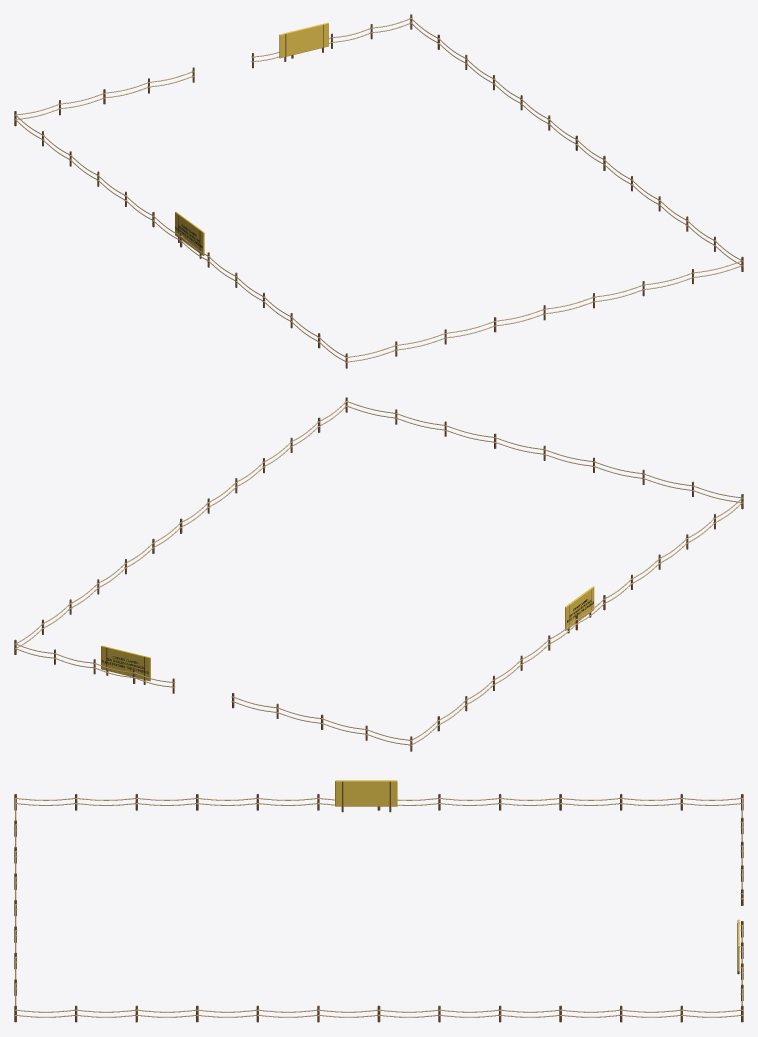
Rendered from zen-worksite.glb.
3 views of the same model, one above another, from view 1: azimuth 30°, elevation 25°; view 2: azimuth 150°, elevation 25°; view 3: azimuth 270°, elevation 25° (orthographic). The views are drawn at different scales.
Visible parts, largest first — view 1: Notice board, Notice board.001; view 2: Notice board, Notice board.001; view 3: Notice board.001.
Part boxes in pixels (left/top/right/bottom): Notice board: left=279, top=22, right=328, bottom=58; Notice board.001: left=175, top=212, right=204, bottom=255; Notice board: left=101, top=645, right=150, bottom=681; Notice board.001: left=565, top=586, right=594, bottom=630; Notice board.001: left=335, top=780, right=397, bottom=806.
Bounding box in the file's own units: 40.25 × 2.75 × 58.27.
